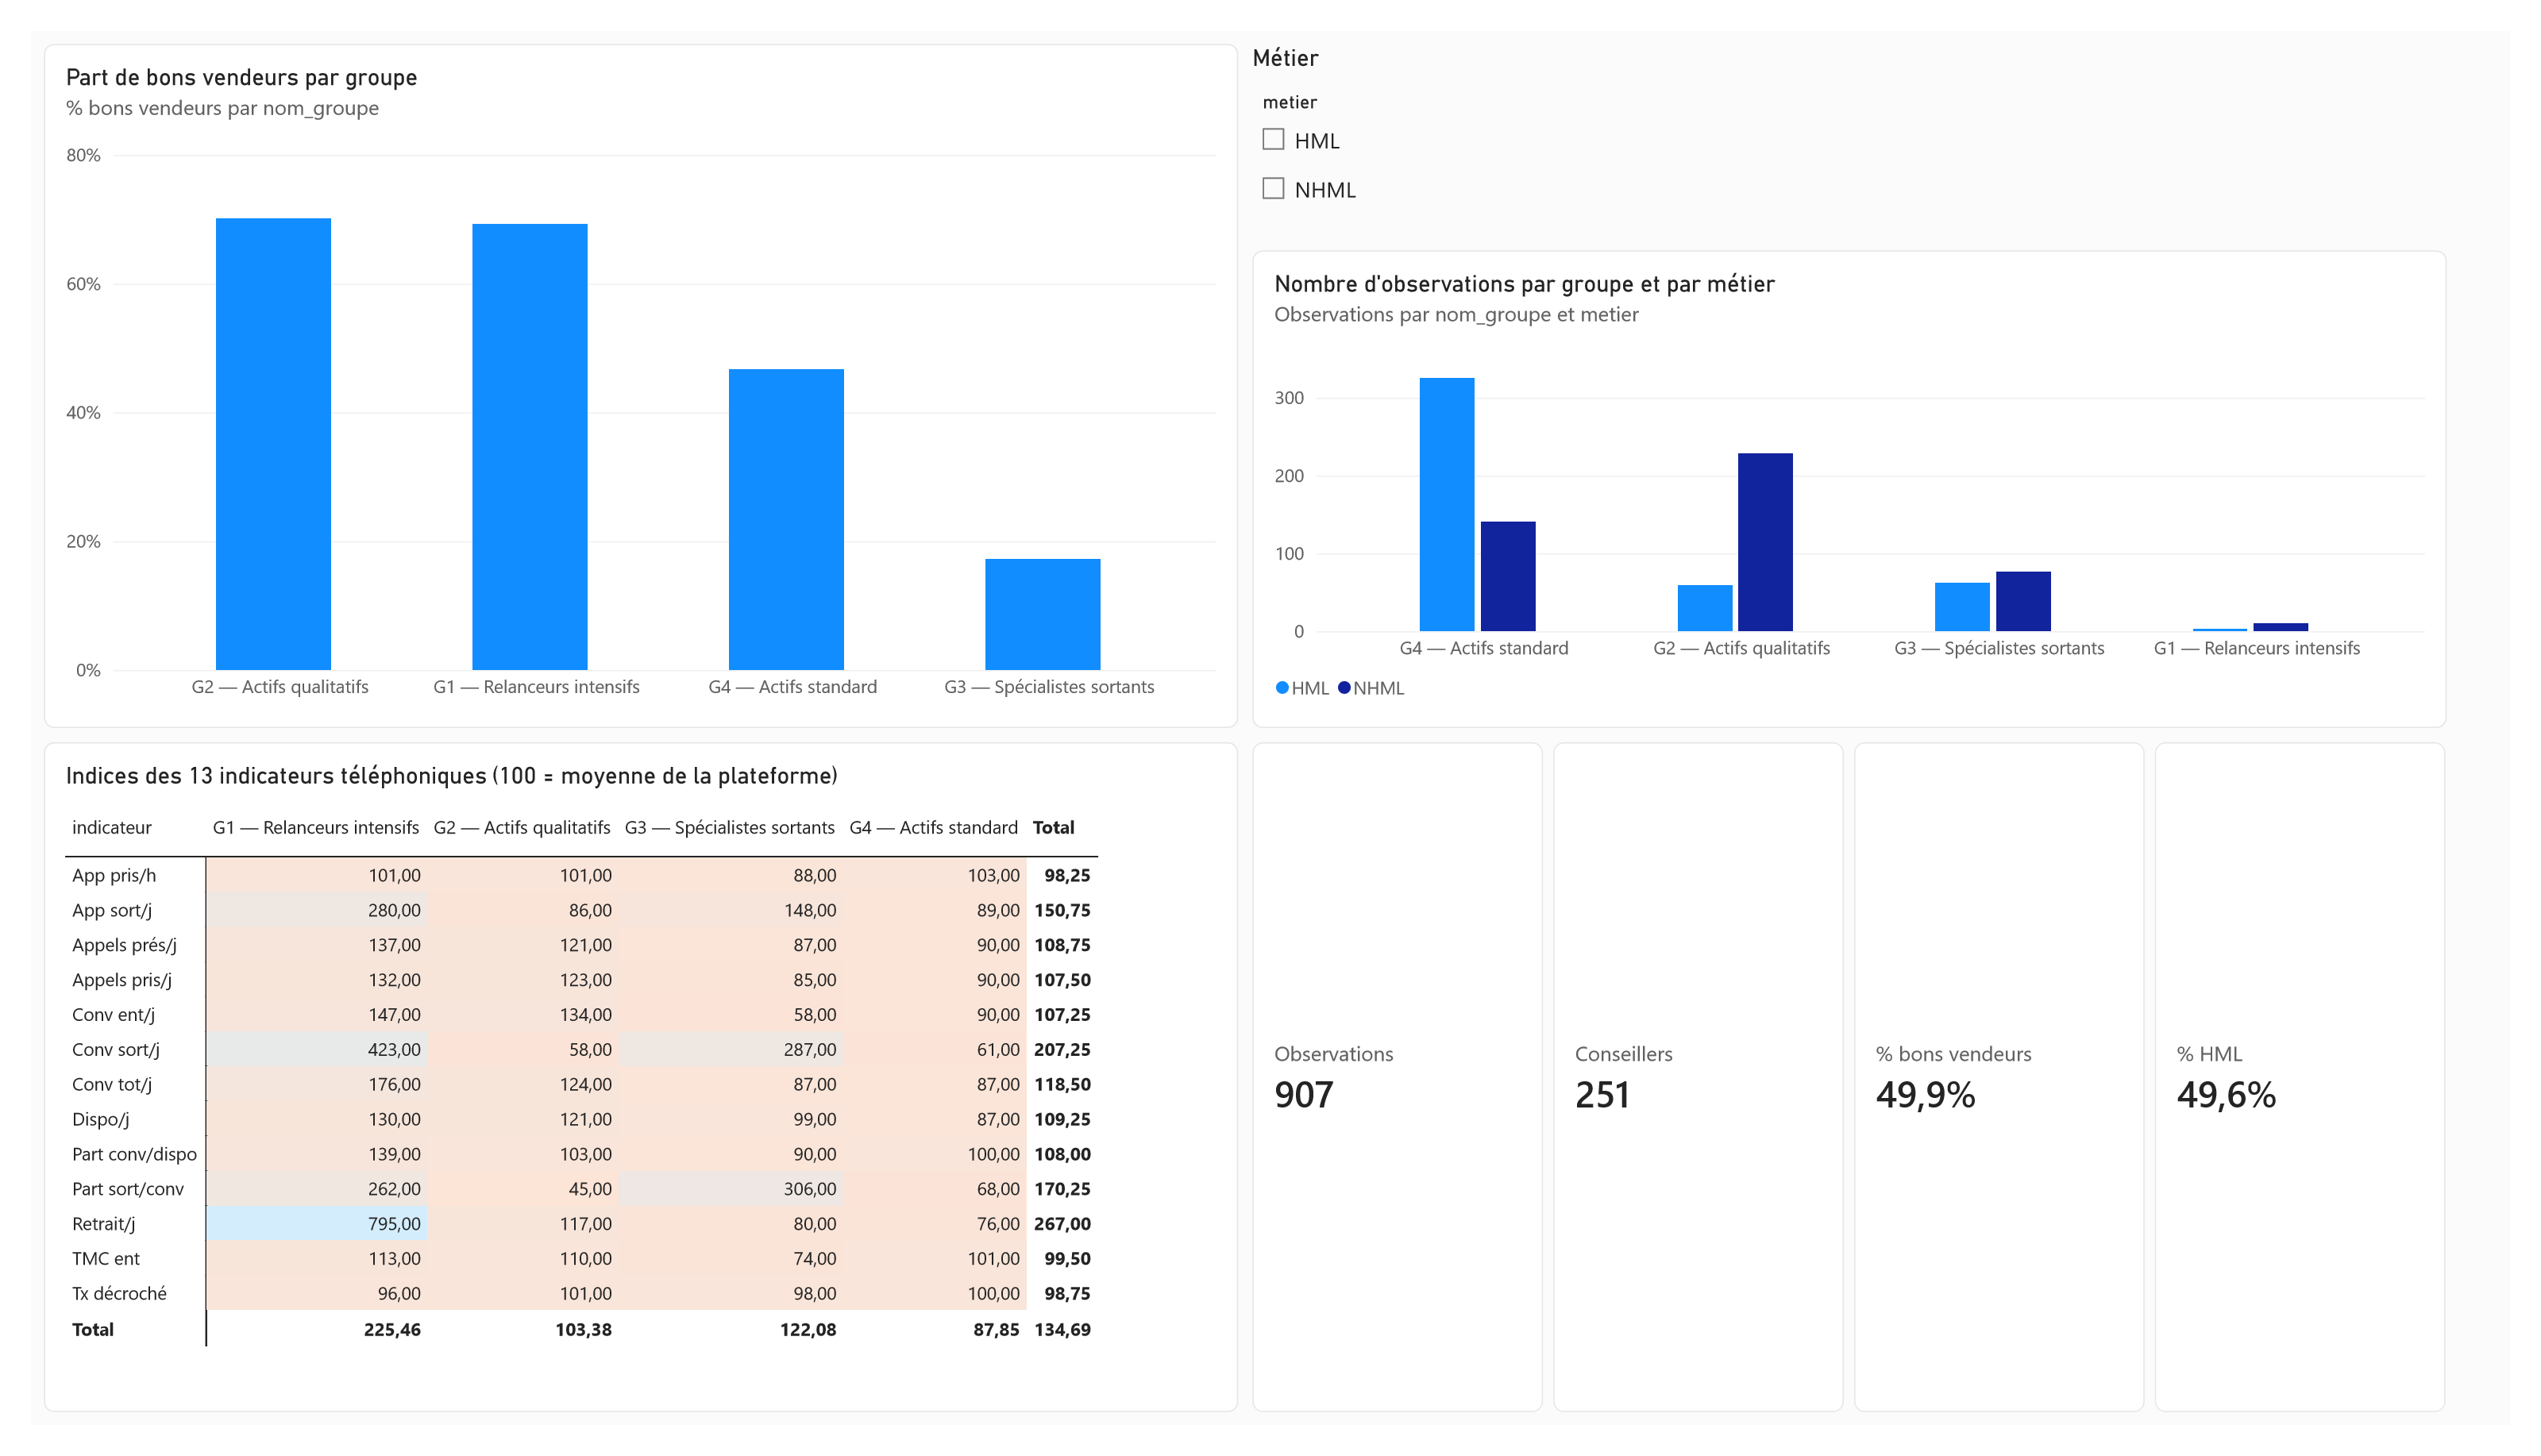

Layout of this report page (visuals, bound fields, positions):
{"tool":"powerbi","page":{"name":"Profils","canvas":[1920,1080],"ordinal":0},"visuals":[{"type":"clusteredColumnChart","fields":{"Category":["groupes.nom_groupe"],"Y":["conseillers_trimestres.% bons vendeurs"]},"box":[10.7,0,925.4,541.1],"z":0},{"type":"pivotTable","fields":{"Columns":["indices_groupes.Groupe"],"Rows":["indices_groupes.indicateur"],"Values":["Avg(indices_groupes.indice)"]},"box":[11,551,925,529],"z":1},{"type":"slicer","fields":{"Values":["conseillers_trimestres.metier"]},"box":[884.6,0,925,541],"z":2},{"type":"cardVisual","fields":{"Data":["conseillers_trimestres.Observations","conseillers_trimestres.Conseillers","conseillers_trimestres.% bons vendeurs","conseillers_trimestres.% HML"]},"box":[946,551,925,529],"z":3},{"type":"clusteredColumnChart","fields":{"Category":["groupes.nom_groupe"],"Series":["conseillers_trimestres.metier"],"Y":["conseillers_trimestres.Observations"]},"box":[959.8,113.8,914.7,429.4],"z":5}]}

Visuals, with their boxes in screenshot pixels (x1, y1, x2, y2), scaled from the page's 1920x1080 canvas onto the 2541x1456 screenshot:
clusteredColumnChart - groupes.nom_groupe x conseillers_trimestres.% bons vendeurs: locate(14, 0, 1239, 730)
pivotTable - indices_groupes.Groupe x indices_groupes.indicateur: locate(14, 743, 1239, 1455)
slicer - conseillers_trimestres.metier: locate(1170, 0, 2395, 730)
cardVisual - conseillers_trimestres.Observations x conseillers_trimestres.Conseillers: locate(1252, 743, 2476, 1455)
clusteredColumnChart - groupes.nom_groupe x conseillers_trimestres.metier: locate(1270, 153, 2481, 732)
